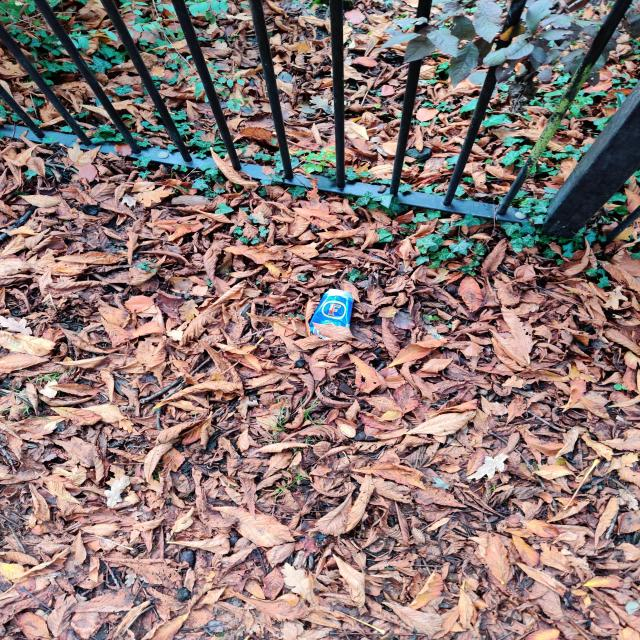litter: (301, 284, 360, 346)
